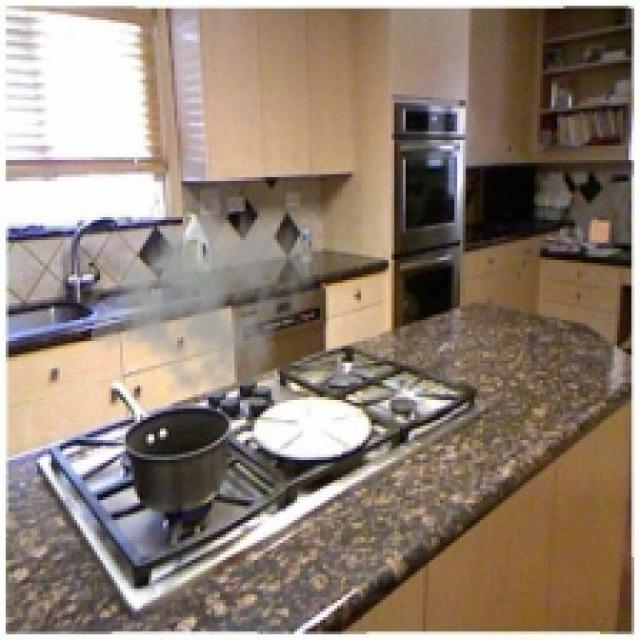smoke: (89, 188, 320, 406)
